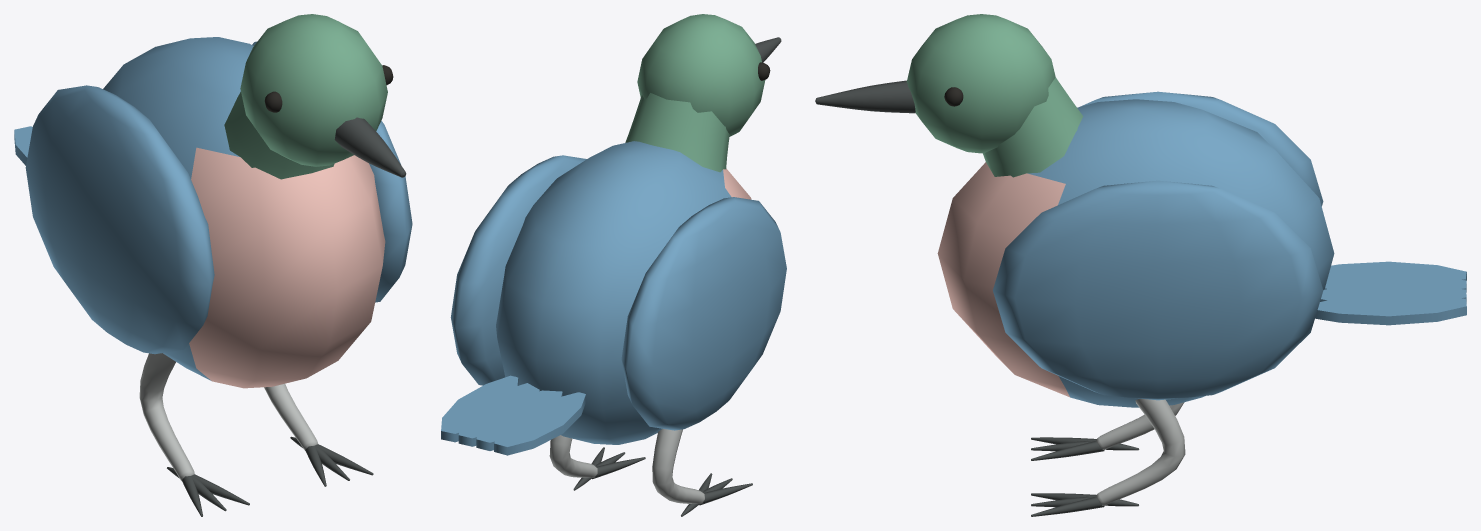
File: birds-and-flying-creatures-lilac-breasted-roller-20cb13f5__20631.glb
The picture shows the model from 3 angles, left to right: view 1: azimuth 30°, elevation 25°; view 2: azimuth 150°, elevation 25°; view 3: azimuth 270°, elevation 25°; orthographic projection. The views are drawn at different scales.
Visible parts, largest first — view 1: lilac-breasted-roller; view 2: lilac-breasted-roller; view 3: lilac-breasted-roller.
Boxes of the visible parts, <box> form: lilac-breasted-roller: <box>14,14,412,516</box>; lilac-breasted-roller: <box>441,14,786,516</box>; lilac-breasted-roller: <box>815,14,1466,516</box>.
Size of the model in its own units: 0.1722 by 0.3032 by 0.3903.
